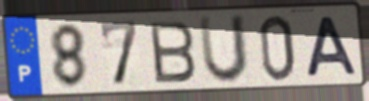0: (256, 13, 298, 83)
7: (98, 19, 141, 89)
8: (48, 21, 91, 91)
A: (303, 15, 360, 79)
B: (147, 19, 199, 85)
U: (196, 12, 251, 86)
